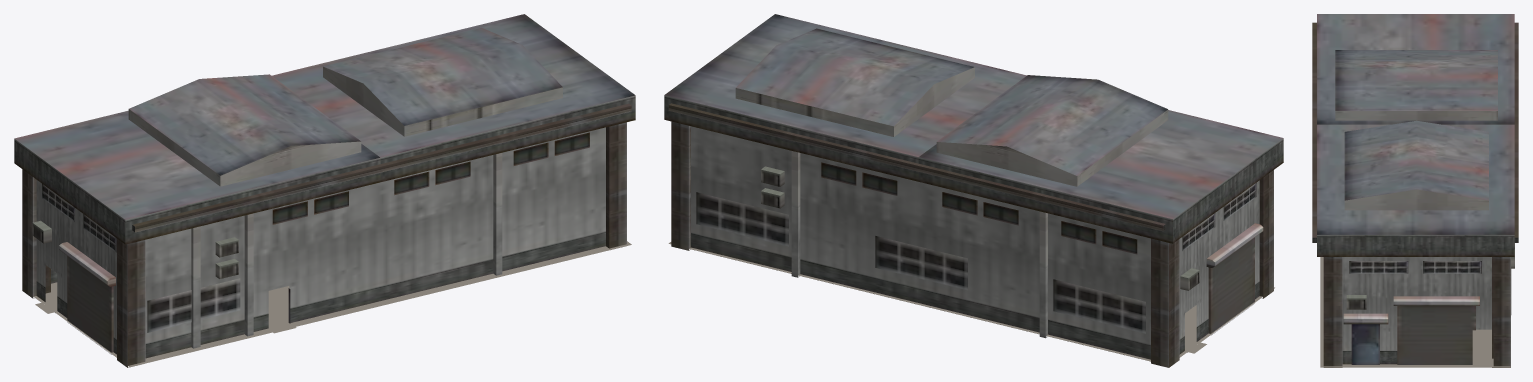
File: ind-warehouse-1.access-v22.lod1.glb
3 renders of one model, left to right at view 1: azimuth 30°, elevation 25°; view 2: azimuth 150°, elevation 25°; view 3: azimuth 270°, elevation 25°, orthographic. The views are drawn at different scales.
Visible parts, largest first — view 1: Industrial_Warehouse_1_Industrial_Walls_FLR_1_0, Industrial_Warehouse_1_Industrial_Facade_Flr_1_0, Walkable floors and stairs; view 2: Industrial_Warehouse_1_Industrial_Walls_FLR_1_0, Industrial_Warehouse_1_Industrial_Facade_Flr_1_0, Walkable floors and stairs; view 3: Industrial_Warehouse_1_Industrial_Walls_FLR_1_0, Industrial_Warehouse_1_Industrial_Facade_Flr_1_0, Walkable floors and stairs.
Boxes of the visible parts, <box> form: Industrial_Warehouse_1_Industrial_Walls_FLR_1_0: <box>14,14,635,367</box>; Industrial_Warehouse_1_Industrial_Facade_Flr_1_0: <box>32,132,589,354</box>; Walkable floors and stairs: <box>33,241,631,367</box>; Industrial_Warehouse_1_Industrial_Walls_FLR_1_0: <box>664,14,1283,367</box>; Industrial_Warehouse_1_Industrial_Facade_Flr_1_0: <box>696,162,1263,352</box>; Walkable floors and stairs: <box>668,242,1274,361</box>; Industrial_Warehouse_1_Industrial_Walls_FLR_1_0: <box>1312,14,1518,367</box>; Industrial_Warehouse_1_Industrial_Facade_Flr_1_0: <box>1343,243,1514,364</box>; Walkable floors and stairs: <box>1320,257,1510,367</box>.
Bounding box in the file's own units: 33.87 × 11.12 × 13.36.
4 materials, 2 textured.
